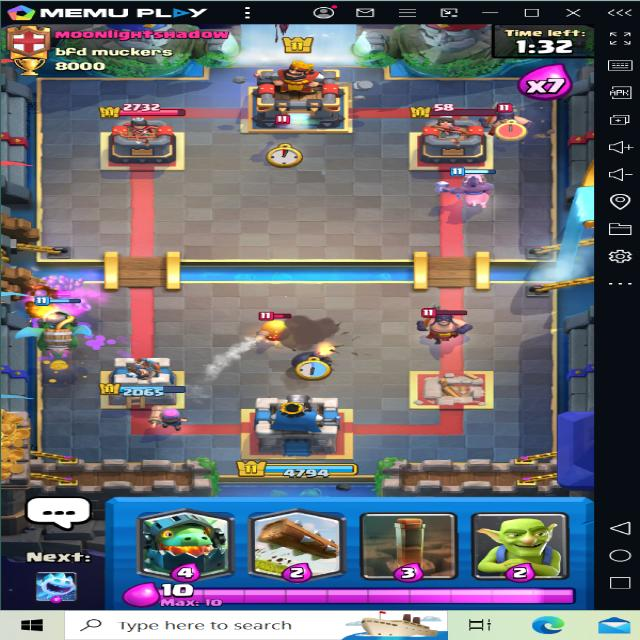executioner: (413, 304, 477, 343), (478, 102, 536, 142)
phoenix-egg: (252, 309, 306, 346)
